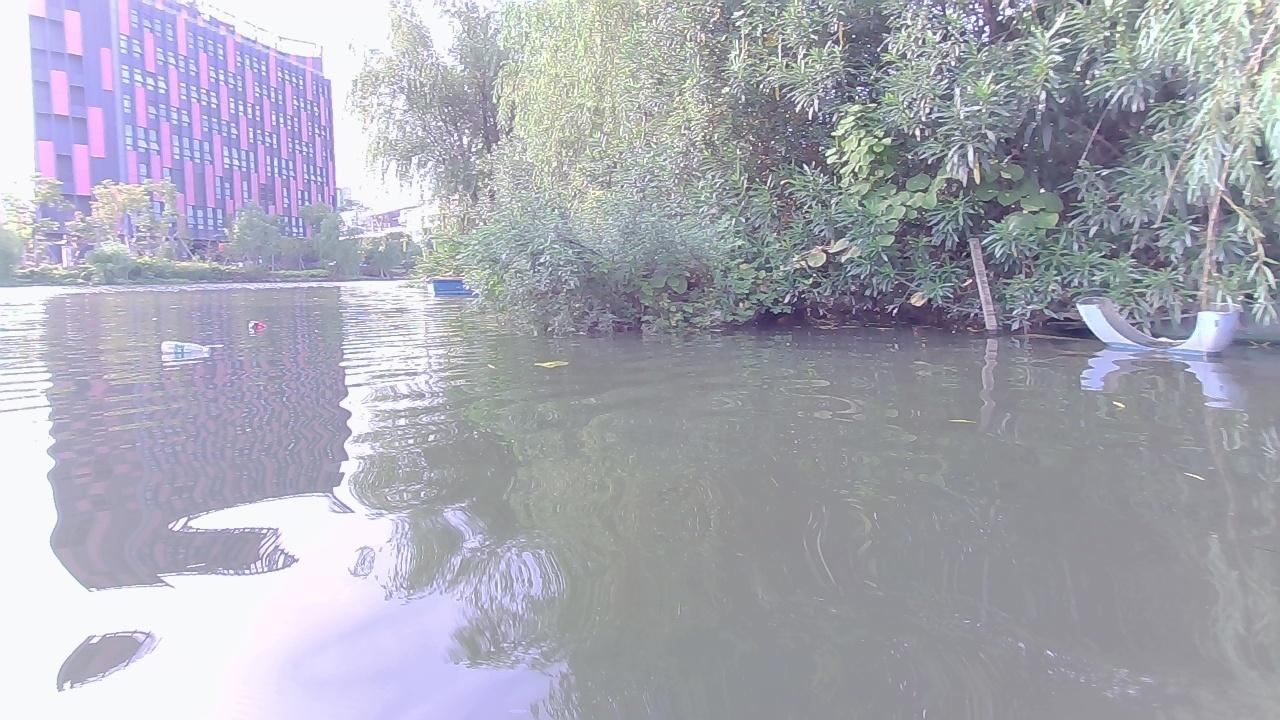bottle: (153, 340, 215, 359), (243, 320, 268, 332)
